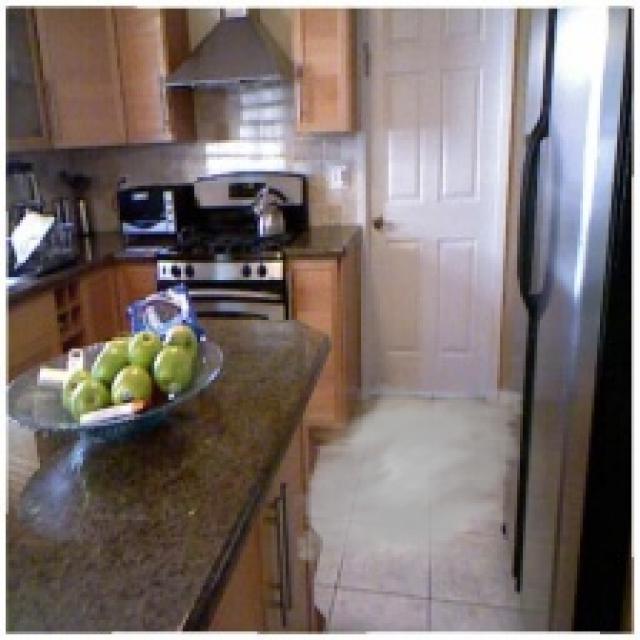smoke: (286, 371, 534, 586)
